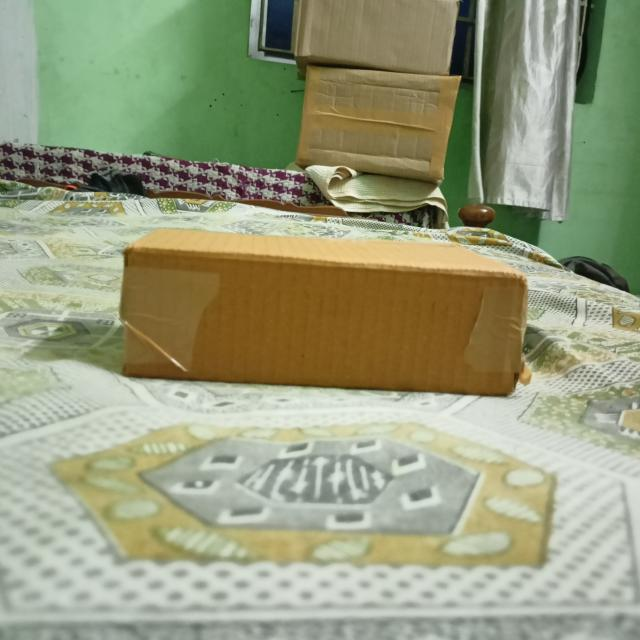box: (127, 252, 524, 394)
